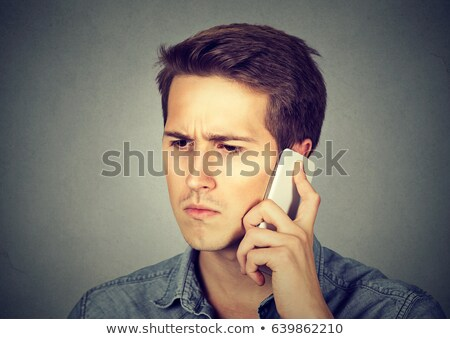phone: (242, 135, 317, 270)
talk: (165, 115, 332, 297)
